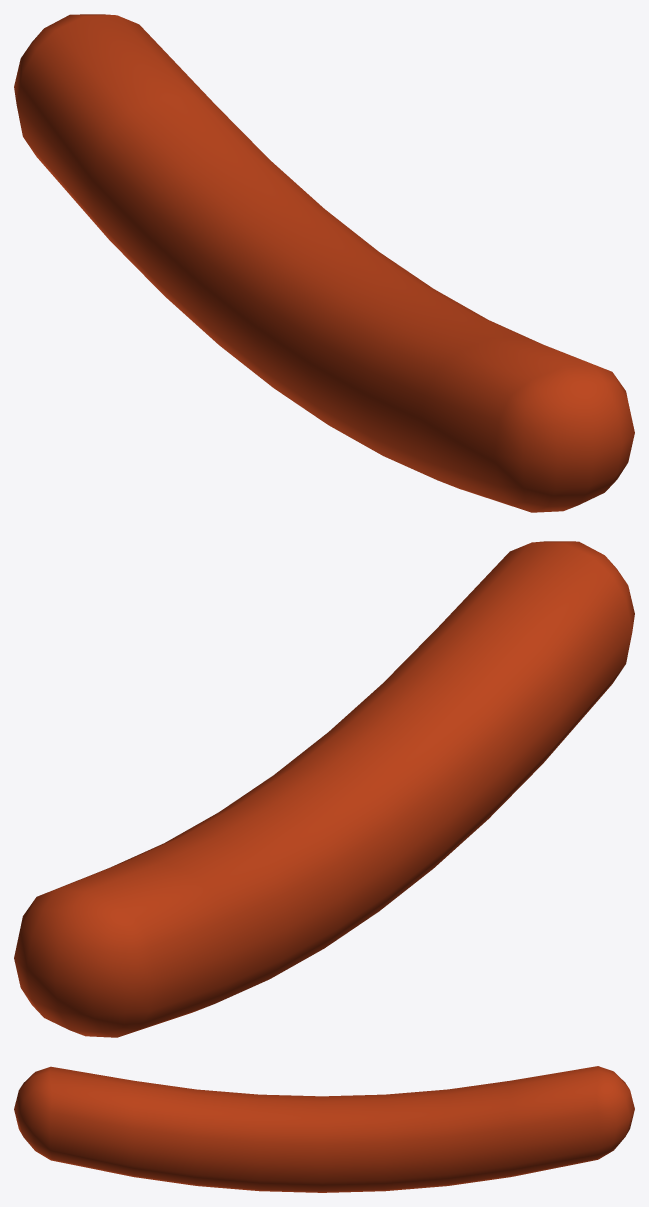
The model's file is sosis.fbx.
3 renders of one model, top to bottom at view 1: azimuth 30°, elevation 25°; view 2: azimuth 150°, elevation 25°; view 3: azimuth 270°, elevation 25°, orthographic. The views are drawn at different scales.
Parts seen in each view (by area): view 1: Cube.001; view 2: Cube.001; view 3: Cube.001.
Part boxes in pixels (x1=…): Cube.001: x1=14, y1=14, x2=634, y2=512; Cube.001: x1=14, y1=541, x2=634, y2=1037; Cube.001: x1=14, y1=1066, x2=634, y2=1192.
Bounding box in the file's own units: 92.15 × 125 × 607.
1 material, 1 textured.
